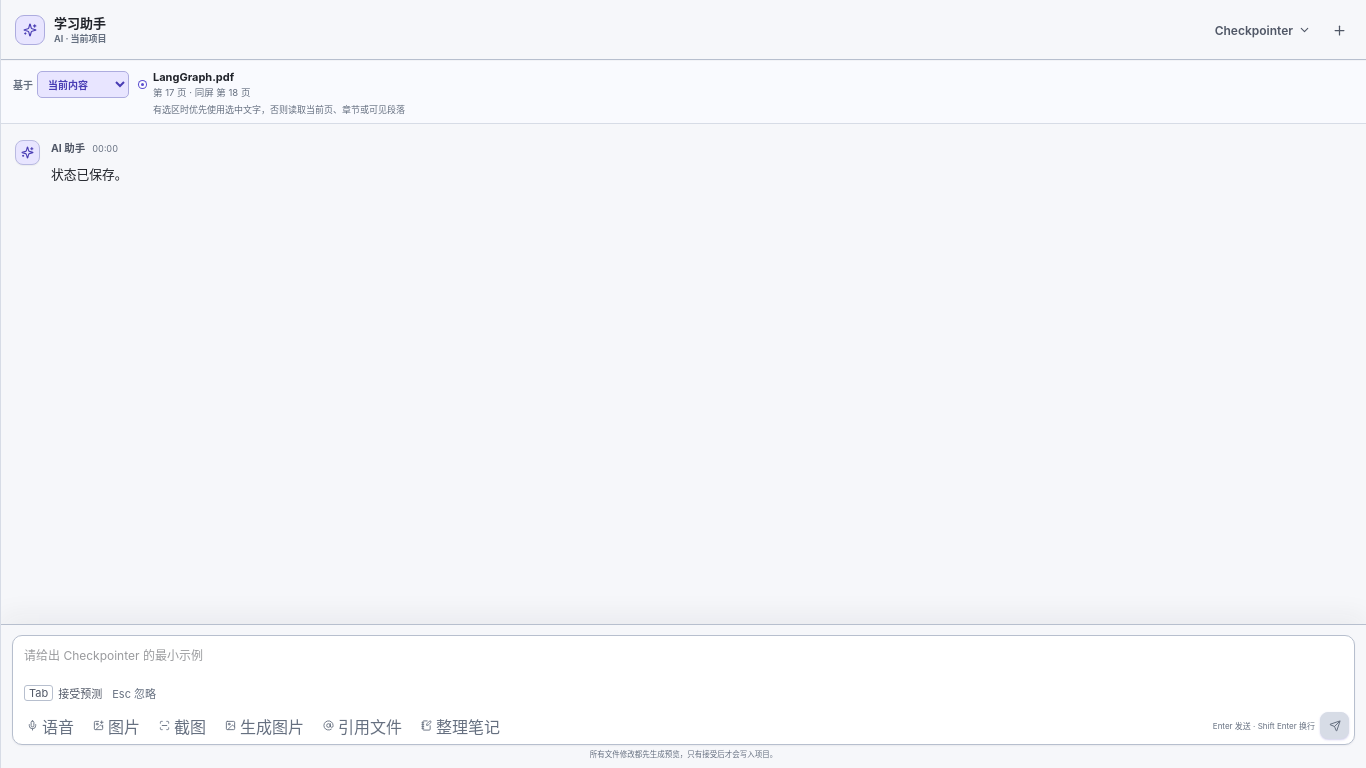
it: AiWorkspace › preserves slash command completion when predictions are available
This screenshot has width=1366, height=768.
In the text box named "向 AI 提问": (684, 659) [13, 636, 1354, 682], type "/hel"
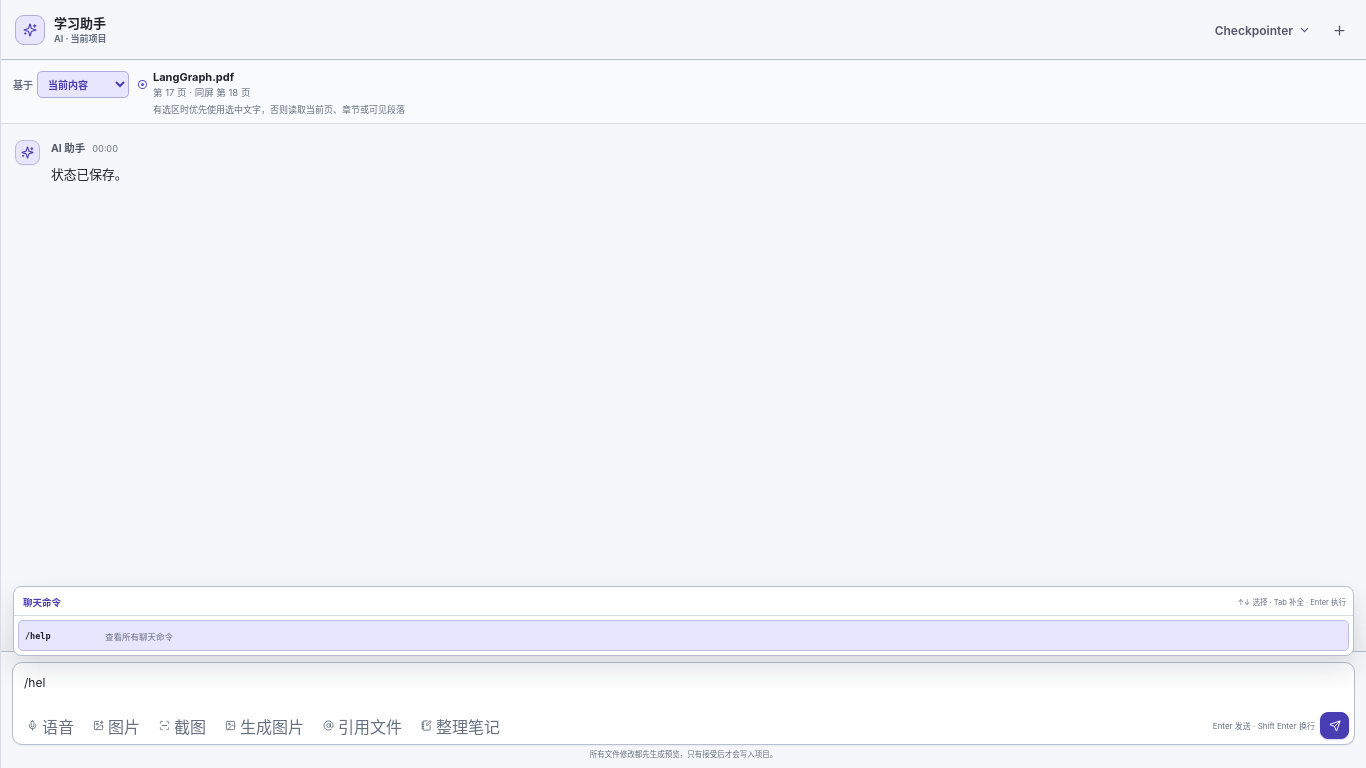
expect the button "接受下一次请求预测" is gone: met
Press Tab in the text box named "向 AI 提问", box [13, 663, 1354, 709]
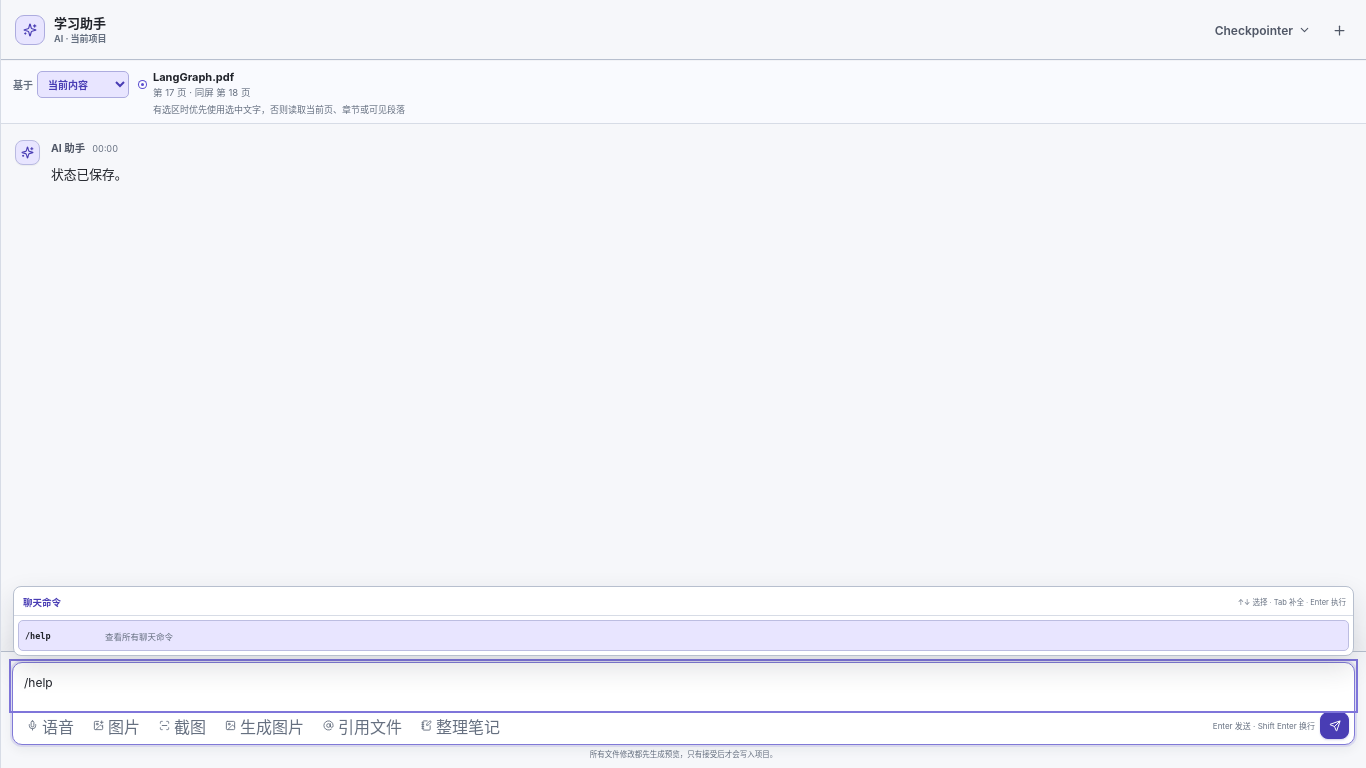
expect the text box named "向 AI 提问" holds "/help": met, box [13, 663, 1354, 709]
